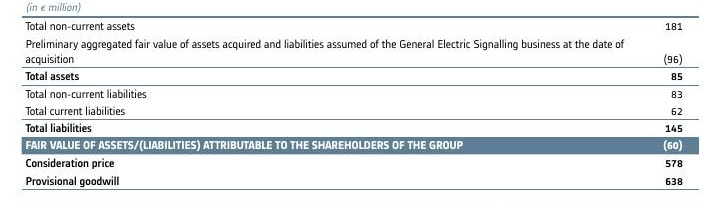table: (0, 0, 711, 206)
